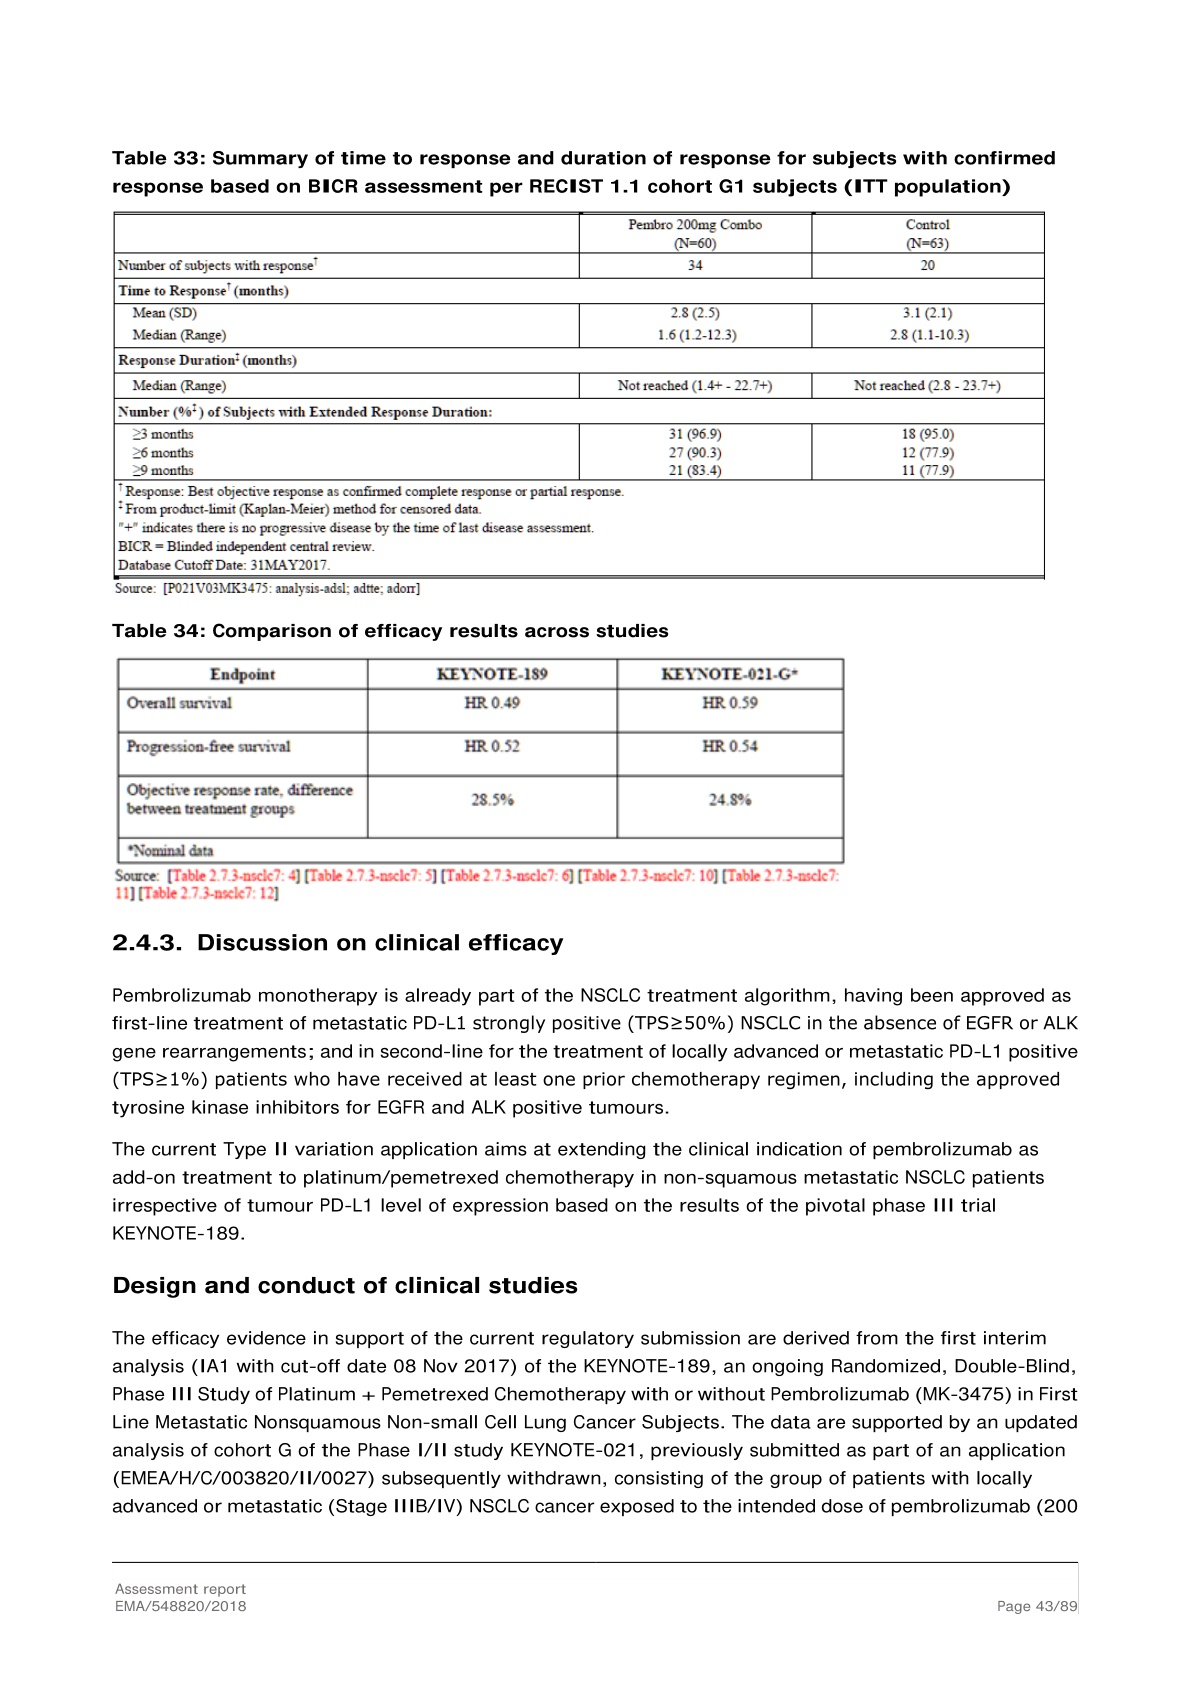merged_cells: (112, 209, 1047, 581), (115, 656, 846, 864)
